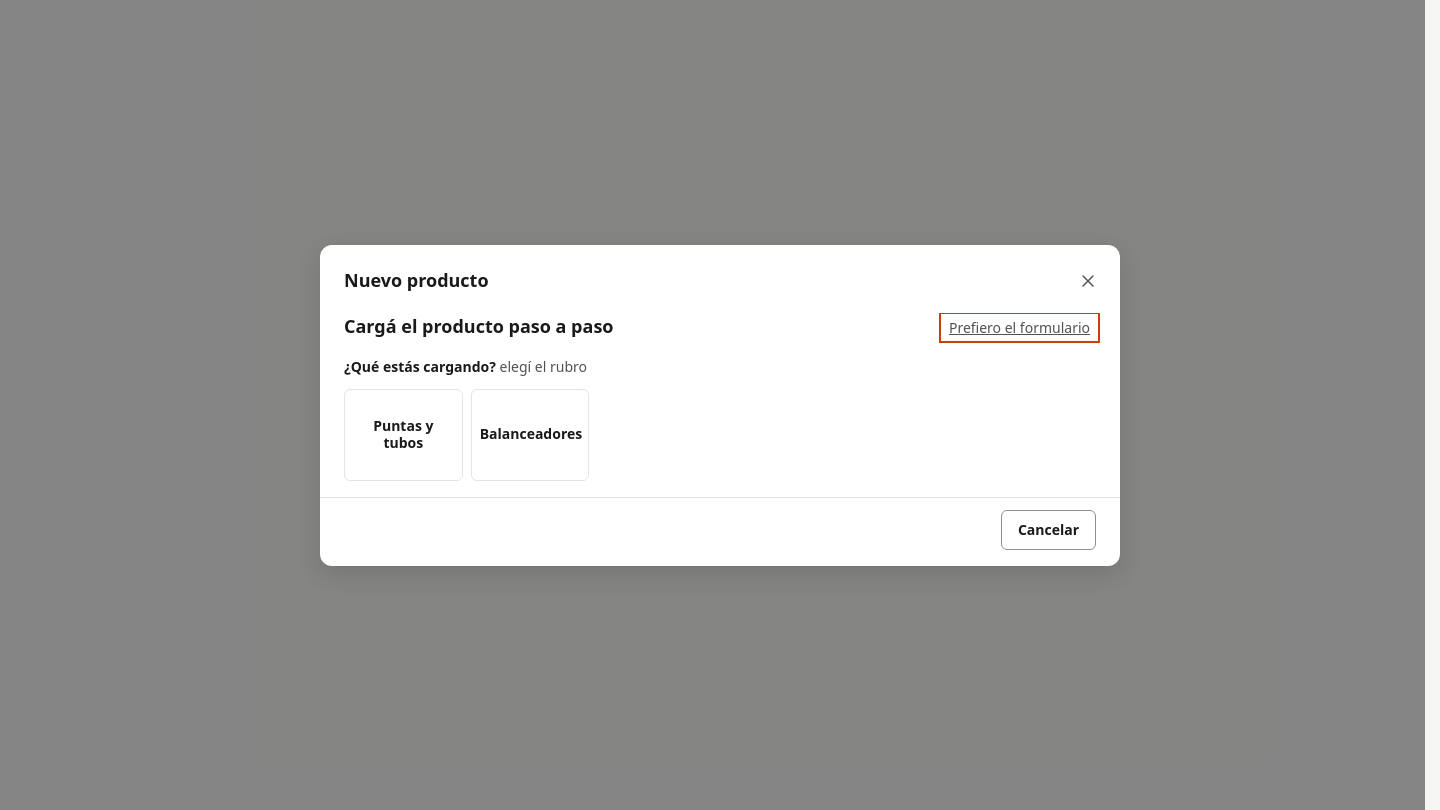
Qué exige antes de mandar › con referencia y nombre pero sin categoría, sigue sin mandar
Click the button "Prefiero el formulario". click: (1019, 327)
box: [943,316,1096,338]
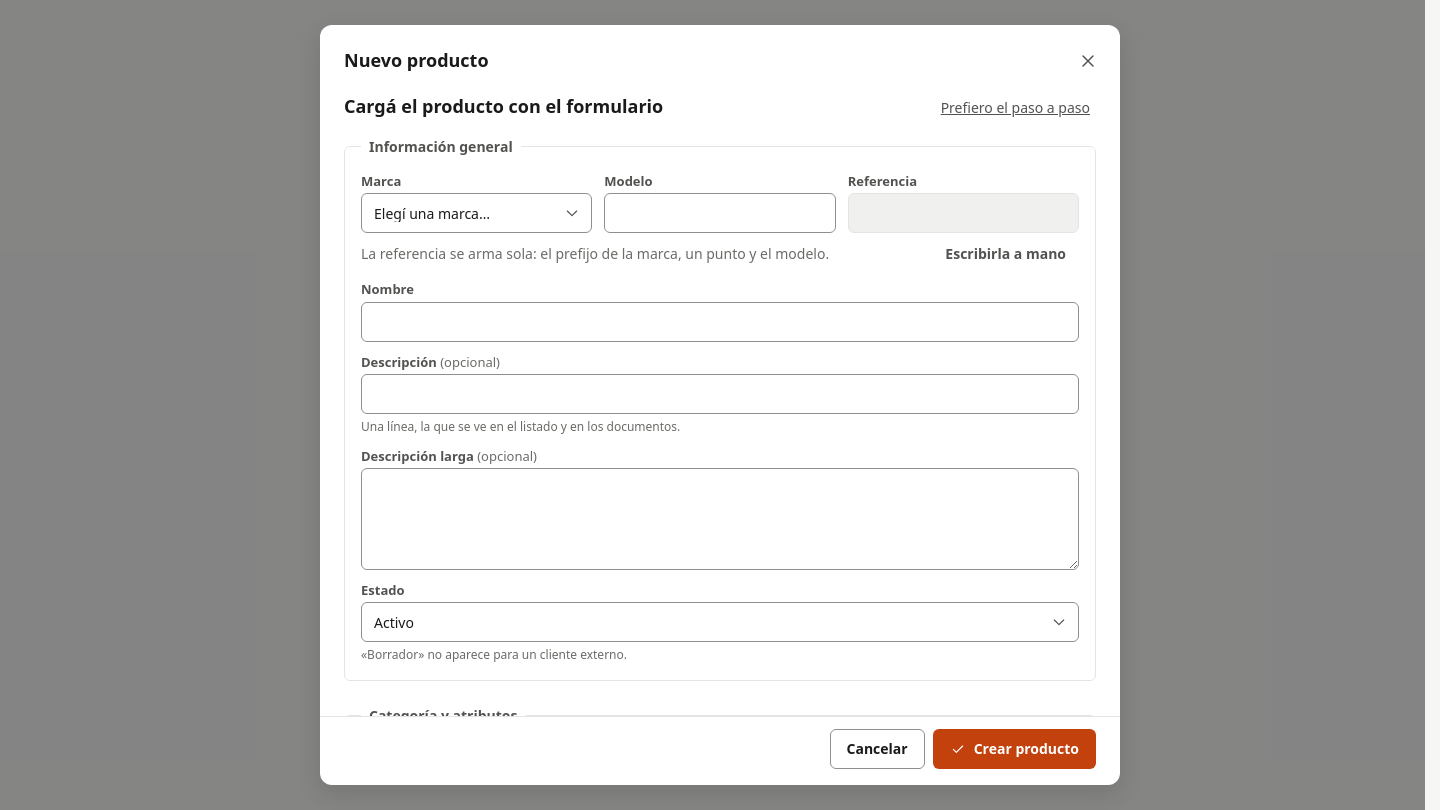
Select "3M Argentina" in the dropdown labelled "Marca". click: (477, 213)
box: [361,193,592,233]
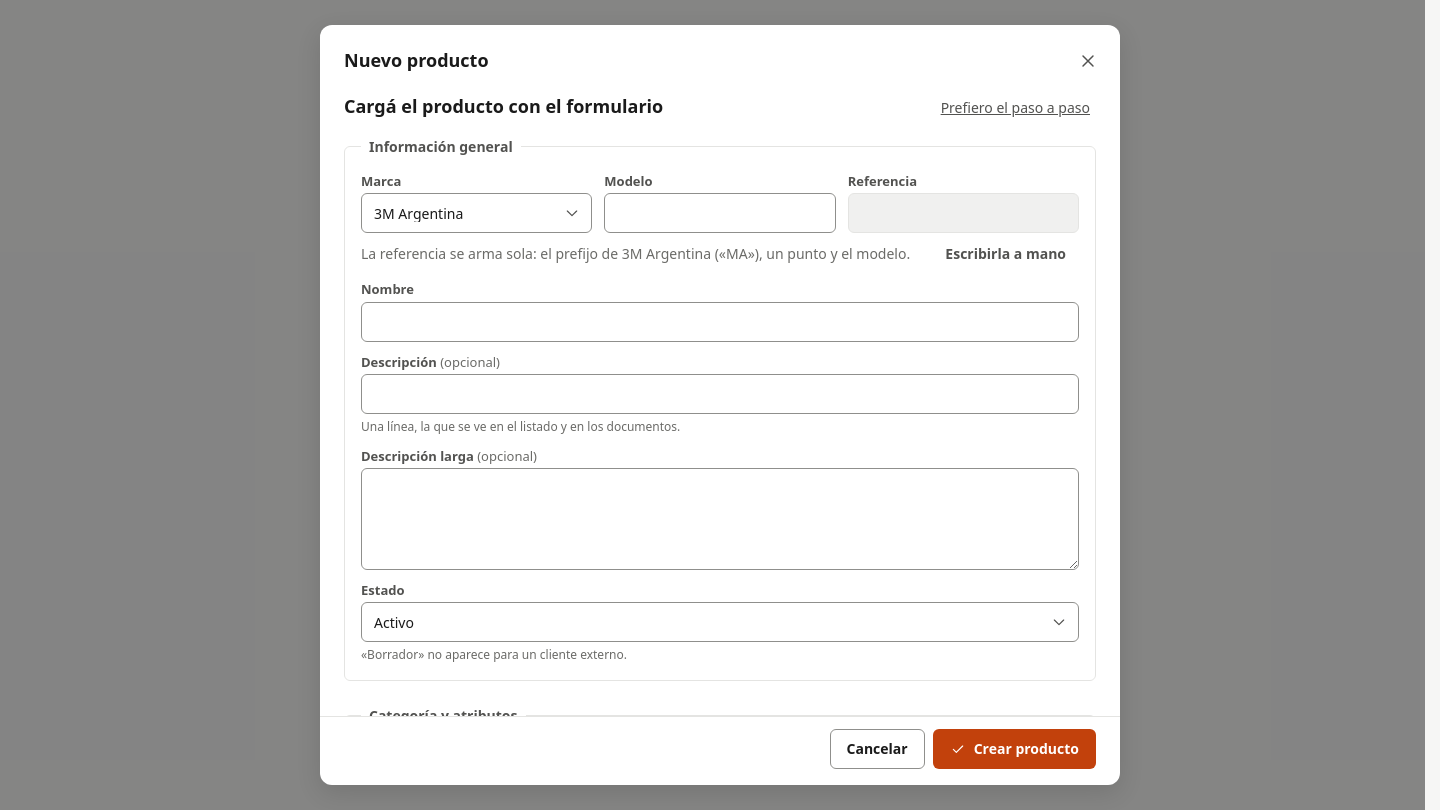
Type "1" into the field labelled "Modelo". click: (720, 213)
box: [604,193,836,233]
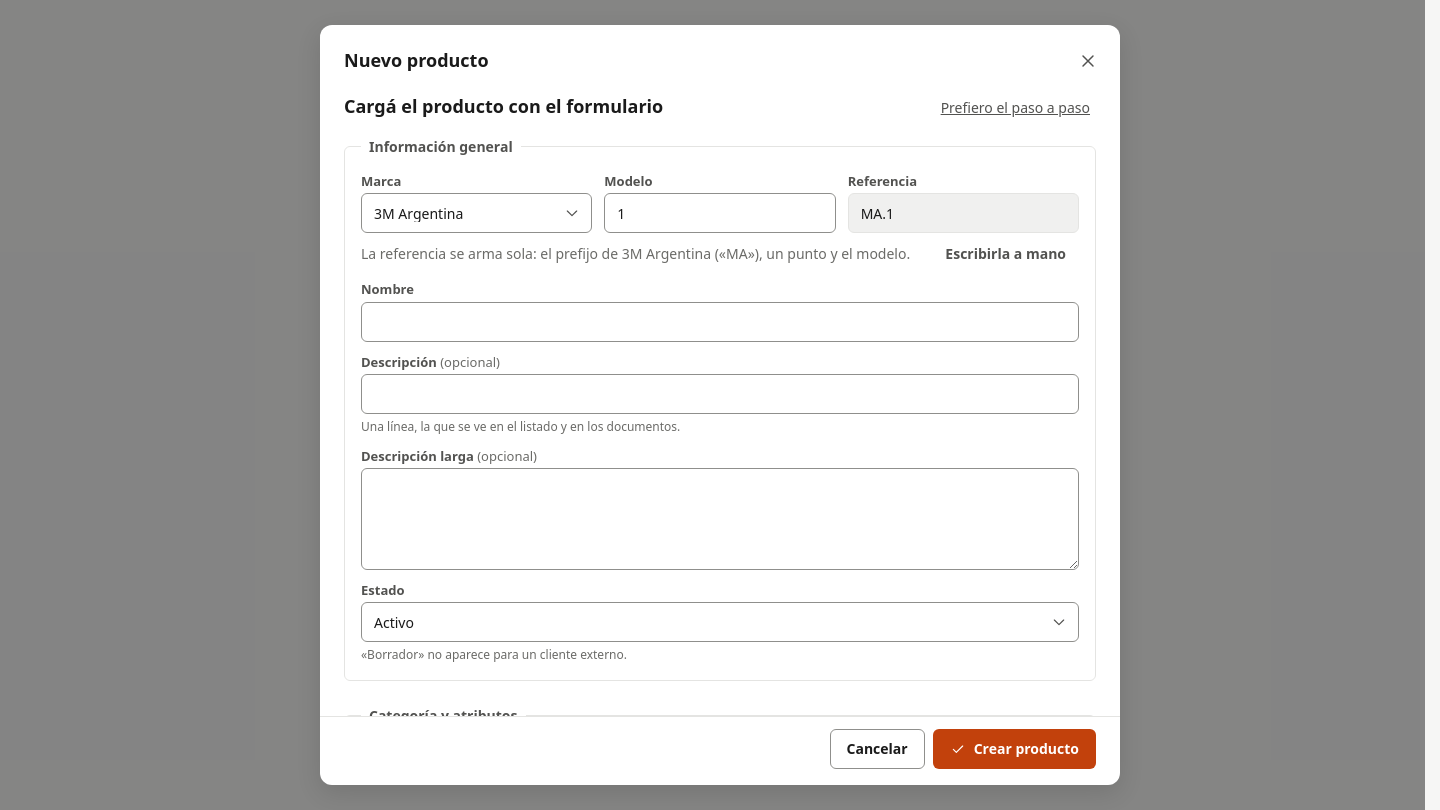
Type "Adaptador" into the field labelled "Nombre". click: (720, 322)
box: [361,302,1079,342]
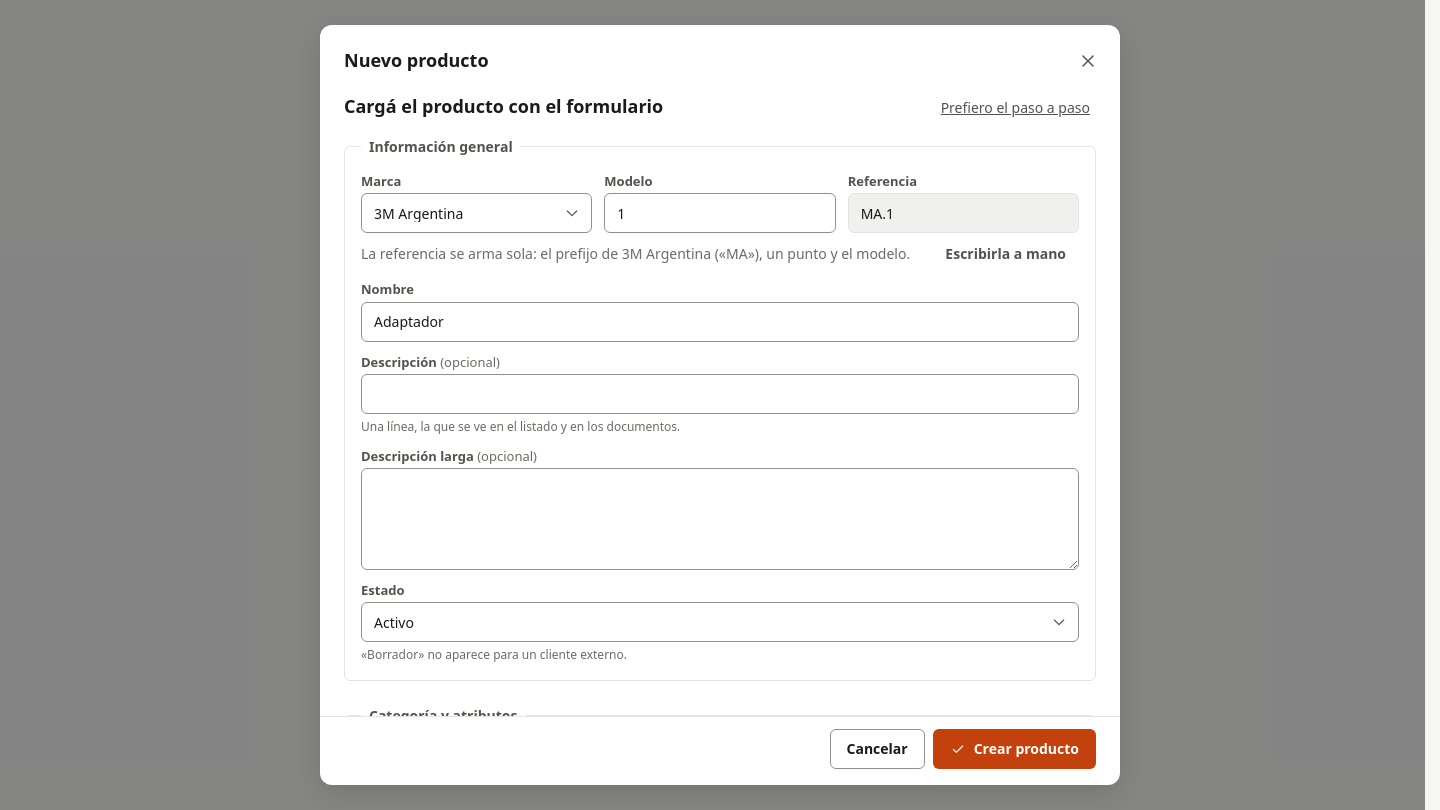
Click the button "Crear producto". click: (1014, 749)
box: [933,729,1096,769]
(page scrolled)
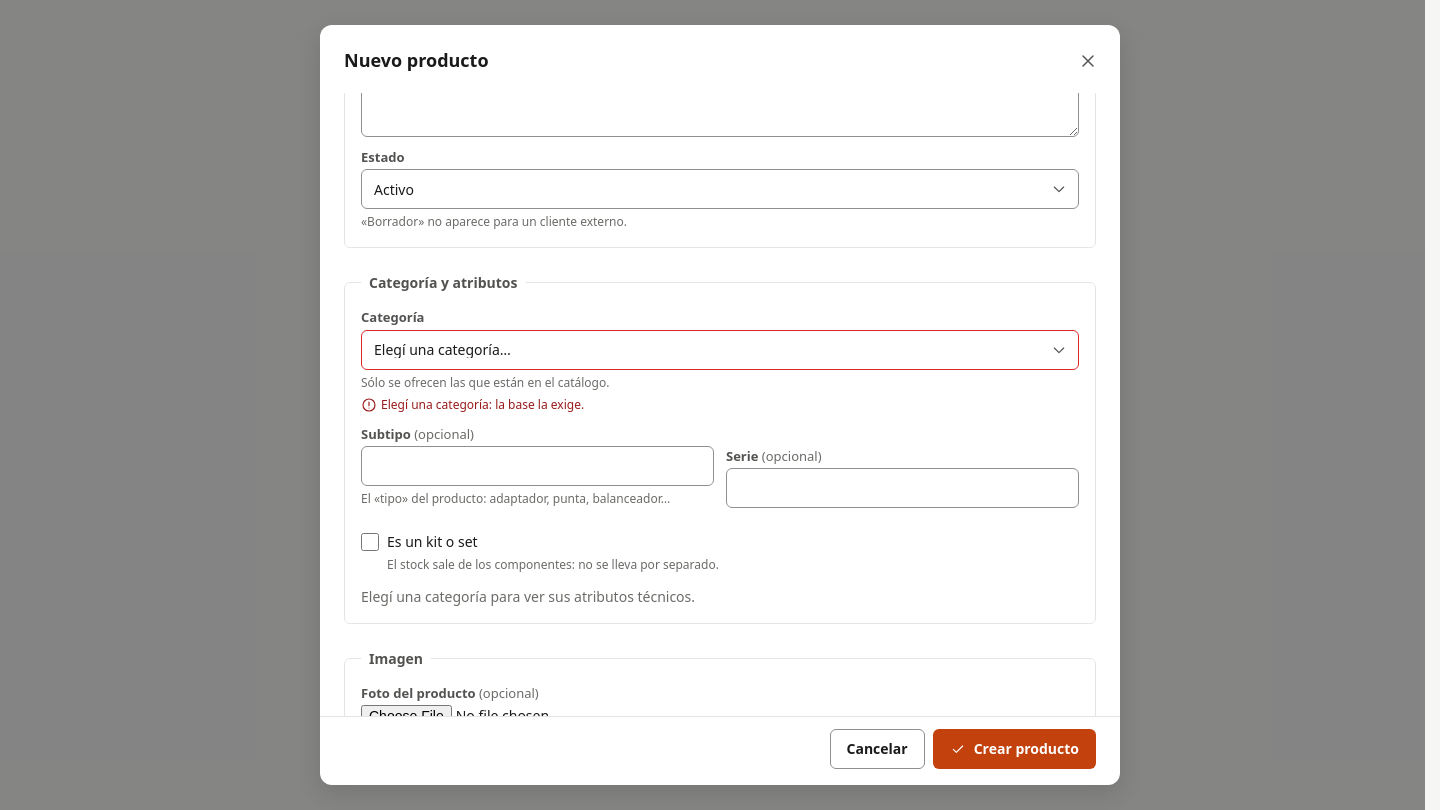
Check: the text "Elegí una categoría: la base la exige." is shown, box [381,396,584,414]
